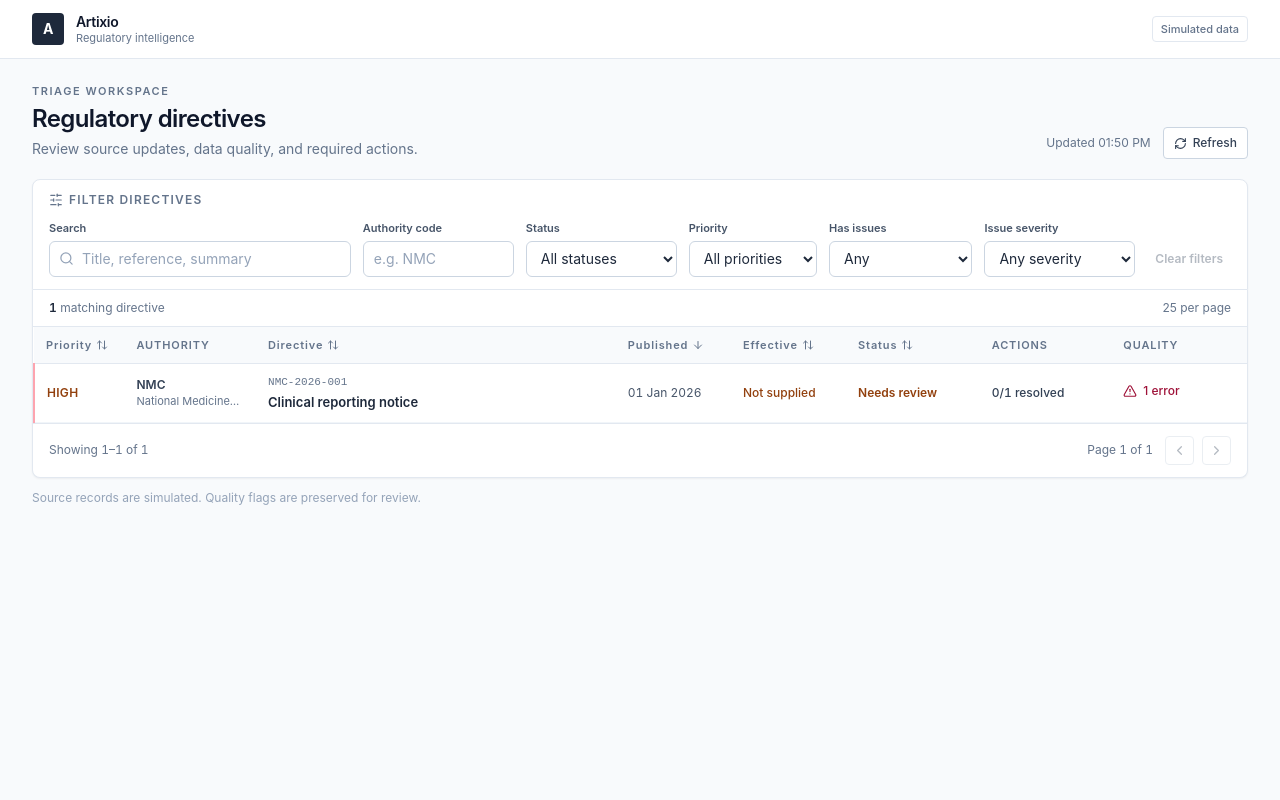
Test: triage page › does not open a stale row while a filtered page is loading
The image size is (1280, 800).
Check: the button "Clinical reporting notice" is shown, box top-left (268, 392), bottom-right (418, 412)
Step 1. Select "Flagged only" in the dropdown labelled "Has issues" → (901, 259), box top-left (829, 241), bottom-right (972, 277)
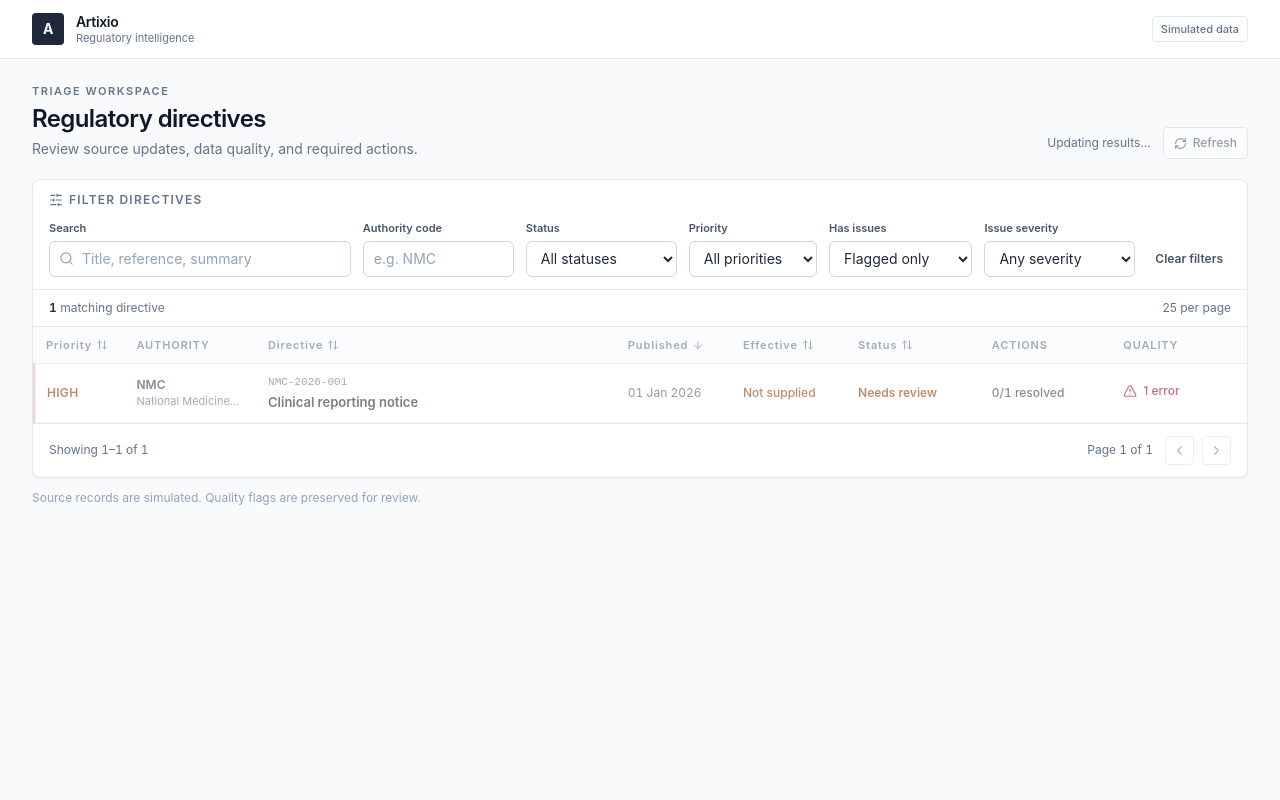
Check: the button "Clinical reporting notice" is disabled, box top-left (268, 392), bottom-right (418, 412)
Step 2. Click the row "Clinical reporting notice" → (640, 393), box top-left (34, 363), bottom-right (1247, 422)
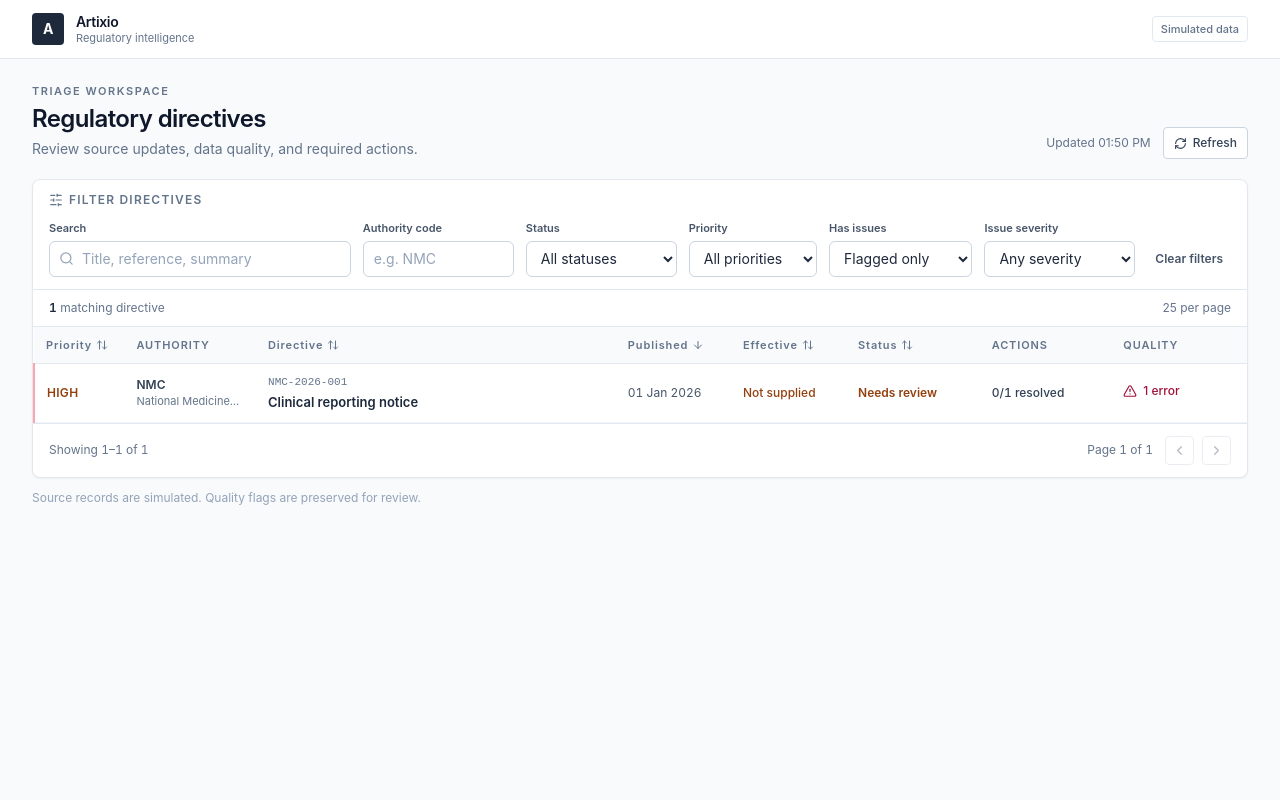
Check: the button "Clinical reporting notice" is enabled
Step 3. Click the button "Clinical reporting notice" → (343, 402), box top-left (268, 392), bottom-right (418, 412)
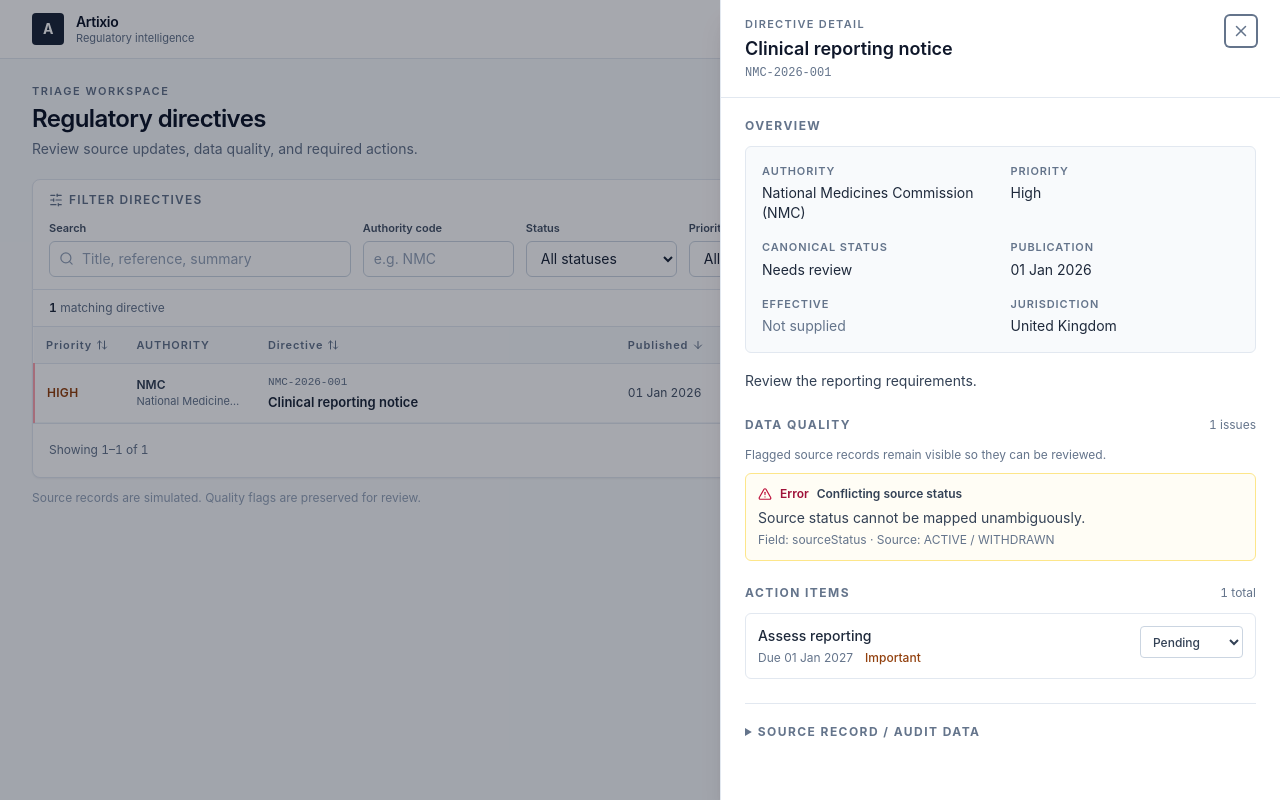
Check: the dialog is shown, box top-left (720, 0), bottom-right (1279, 799)
